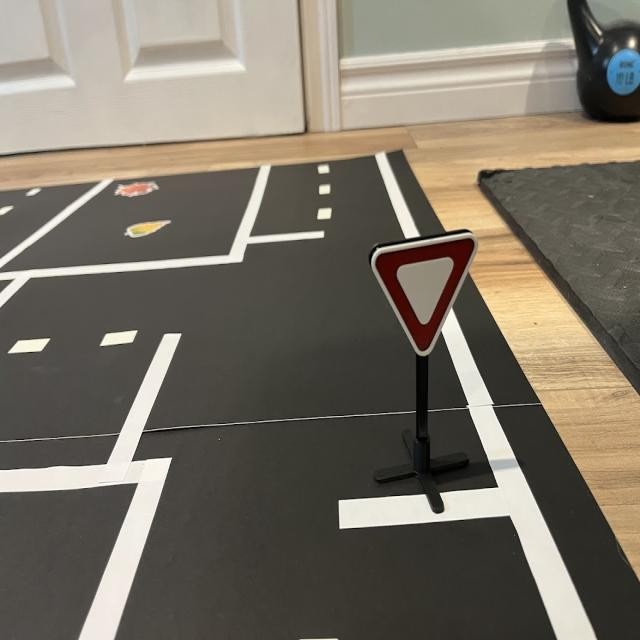sign_yield: (372, 232, 479, 358)
